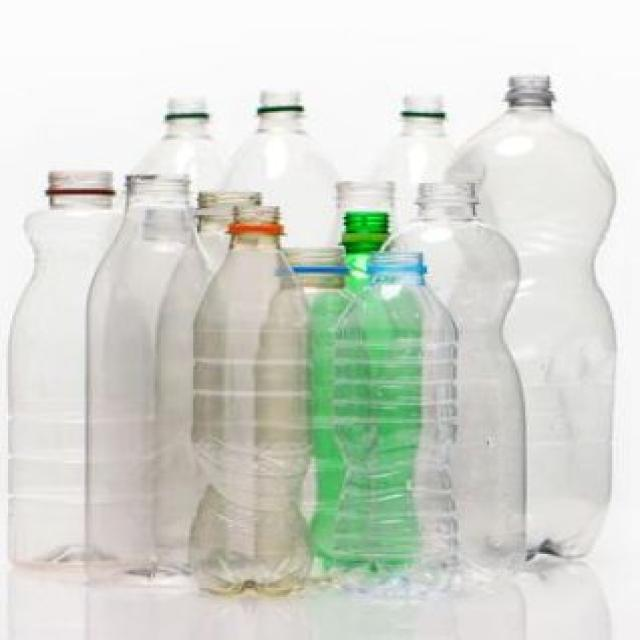general: (441, 72, 618, 561), (377, 179, 528, 572), (82, 172, 212, 577), (187, 206, 312, 595), (6, 167, 125, 572), (217, 86, 340, 249), (372, 90, 457, 230), (127, 91, 227, 202)
